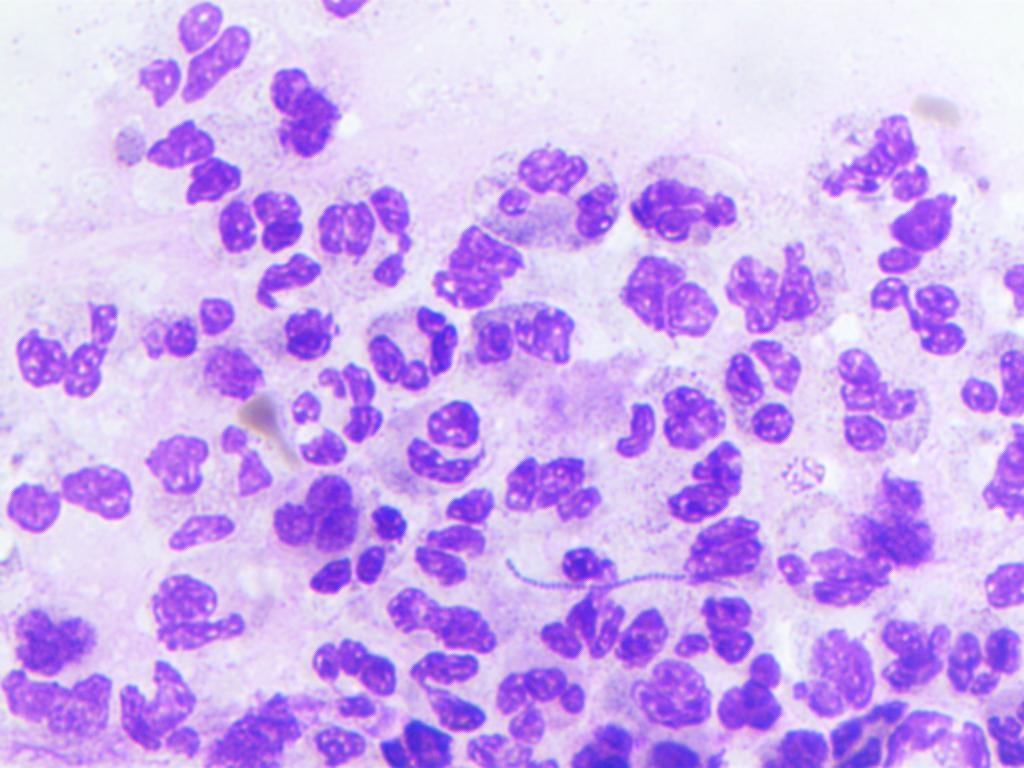artifact: (429, 218, 526, 322)
epithelial: (625, 147, 758, 255), (137, 570, 253, 657), (615, 253, 721, 344)
neutrophil: (460, 139, 621, 253), (137, 432, 272, 550), (831, 332, 942, 464), (114, 6, 250, 113), (777, 490, 893, 613), (124, 116, 254, 220), (309, 164, 418, 288), (303, 488, 424, 596), (3, 452, 142, 546), (11, 294, 118, 411), (817, 108, 938, 208), (869, 266, 976, 378), (874, 181, 990, 283), (714, 240, 825, 346), (110, 650, 209, 762), (247, 56, 352, 160), (657, 508, 776, 599), (459, 294, 586, 378), (522, 570, 631, 667), (722, 330, 809, 451), (301, 636, 412, 726), (269, 376, 358, 486), (357, 299, 458, 394), (392, 396, 497, 487), (413, 480, 501, 588), (378, 584, 504, 657), (871, 612, 968, 706), (204, 182, 309, 268), (498, 460, 615, 536), (491, 656, 594, 742), (271, 459, 362, 556), (411, 640, 494, 746), (785, 628, 882, 718), (139, 287, 242, 370), (941, 599, 1023, 699), (9, 593, 103, 678), (221, 678, 309, 768), (645, 378, 730, 460), (964, 321, 1024, 436), (668, 444, 750, 526), (675, 594, 756, 674), (184, 340, 277, 407), (275, 302, 352, 370), (371, 716, 460, 768), (566, 710, 644, 768)
